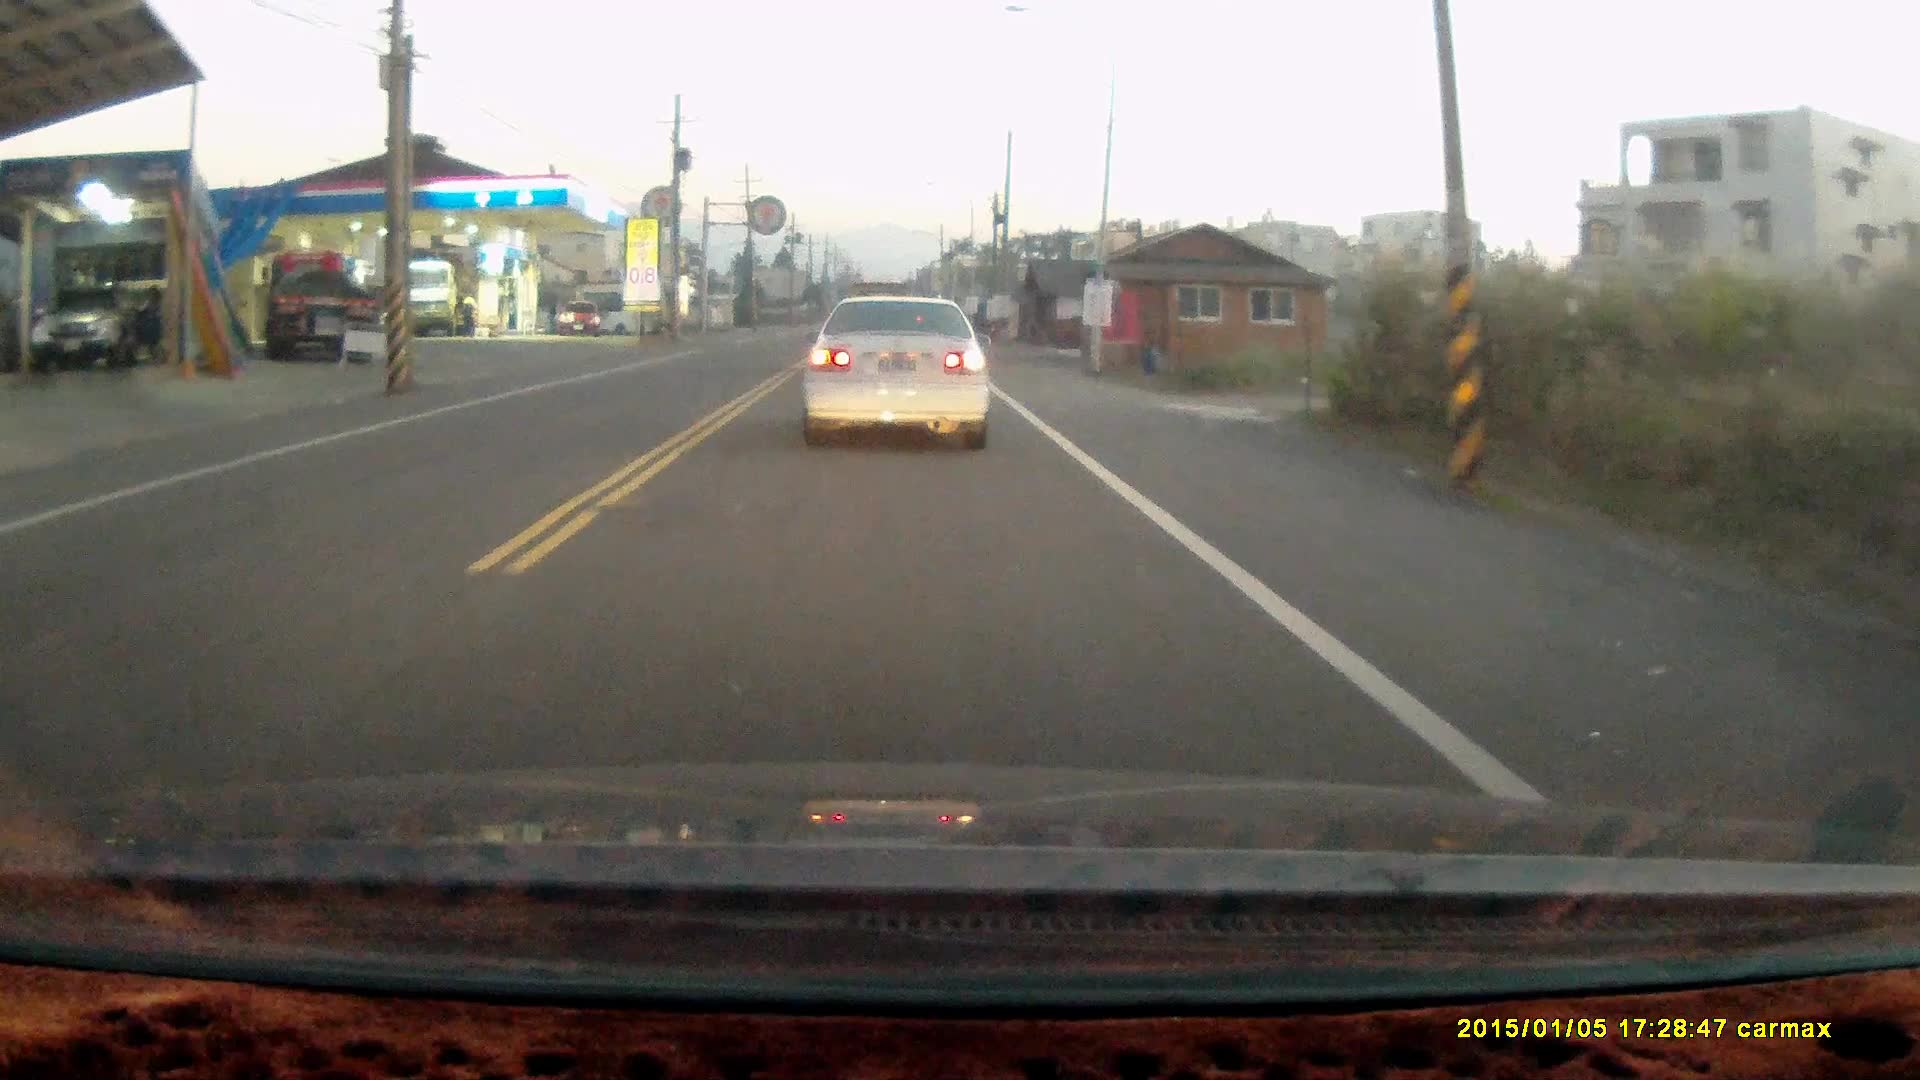pedestrian: (458, 288, 478, 333)
vehicle: (795, 288, 995, 451), (260, 245, 378, 356), (390, 249, 472, 333), (560, 302, 602, 338)
